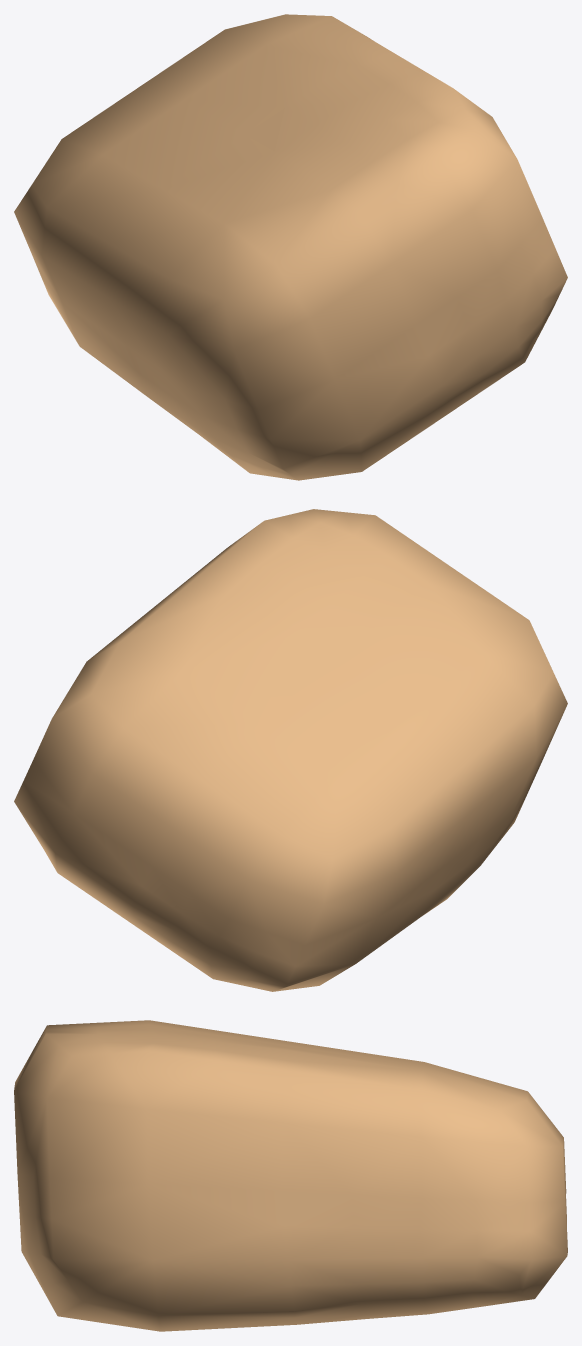
File: pinky_03_r.dae
The picture shows the model from 3 angles, top to bottom: view 1: azimuth 30°, elevation 25°; view 2: azimuth 150°, elevation 25°; view 3: azimuth 270°, elevation 25°; orthographic projection. The views are drawn at different scales.
Parts seen in each view (by area): view 1: skin_geo_pinky_03_r; view 2: skin_geo_pinky_03_r; view 3: skin_geo_pinky_03_r.
Boxes of the visible parts, left/top/right/bottom form: skin_geo_pinky_03_r: left=14, top=14, right=567, bottom=480; skin_geo_pinky_03_r: left=14, top=509, right=567, bottom=991; skin_geo_pinky_03_r: left=14, top=1020, right=567, bottom=1331.
Bounding box in the file's own units: 0.0187 × 0.0236 × 0.0163.
